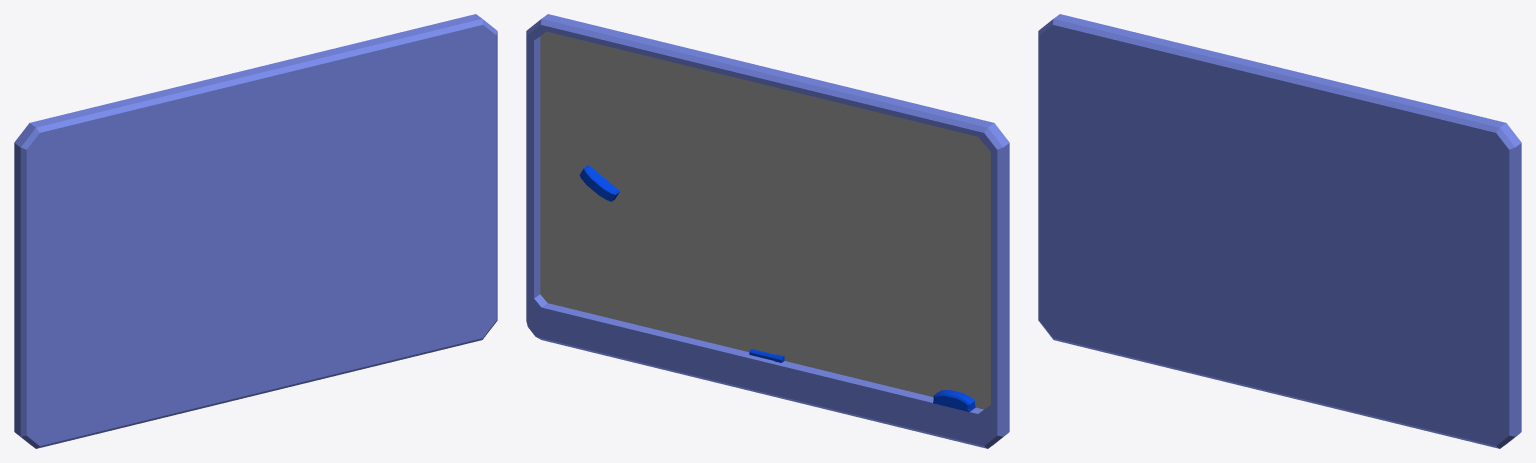
Rendered from Whiteboard_1.fbx.
3 renders of one model, left to right at view 1: azimuth 30°, elevation 25°; view 2: azimuth 150°, elevation 25°; view 3: azimuth 330°, elevation 25°, orthographic.
Parts seen in each view (by area): view 1: White_Board_1; view 2: White_Board_1; view 3: White_Board_1.
Boxes of the visible parts, bbox=[...] form: White_Board_1: bbox=[14, 14, 497, 448]; White_Board_1: bbox=[526, 14, 1009, 448]; White_Board_1: bbox=[1038, 14, 1521, 448].
Bounding box in the file's own units: 2.08 × 1.34 × 0.0866.
